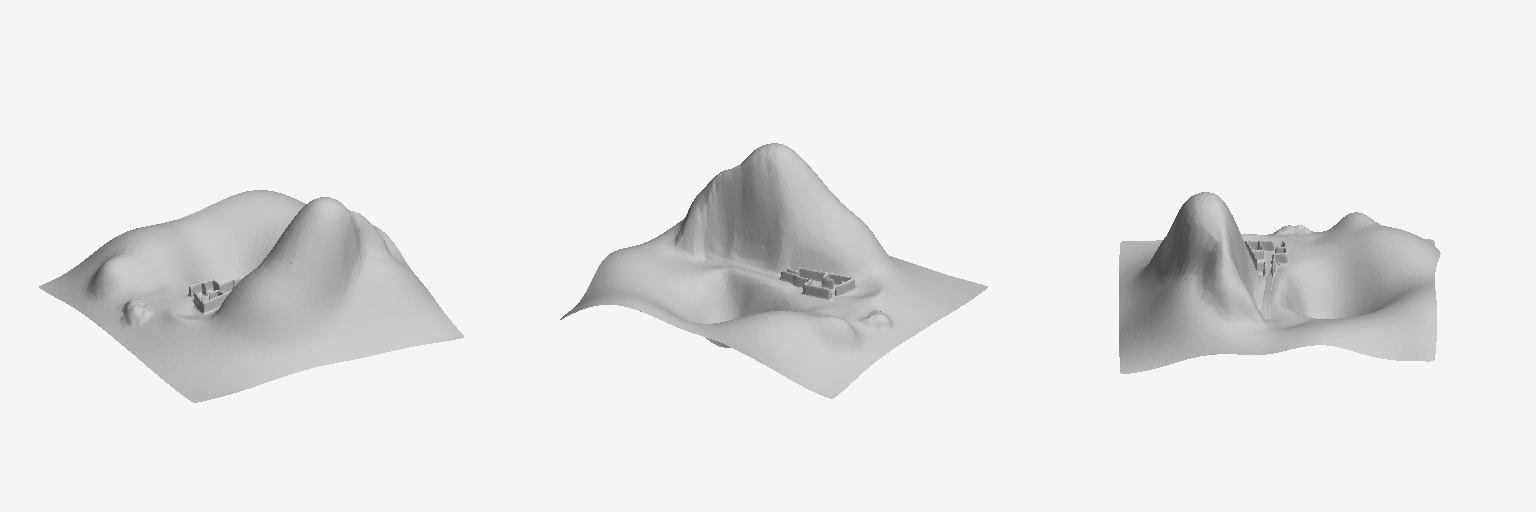
File: casa_montanha.obj
3 renders of one model, left to right at view 1: azimuth 30°, elevation 25°; view 2: azimuth 150°, elevation 25°; view 3: azimuth 270°, elevation 25°, orthographic.
Bounding box in the file's own units: 1899 × 972 × 1855.